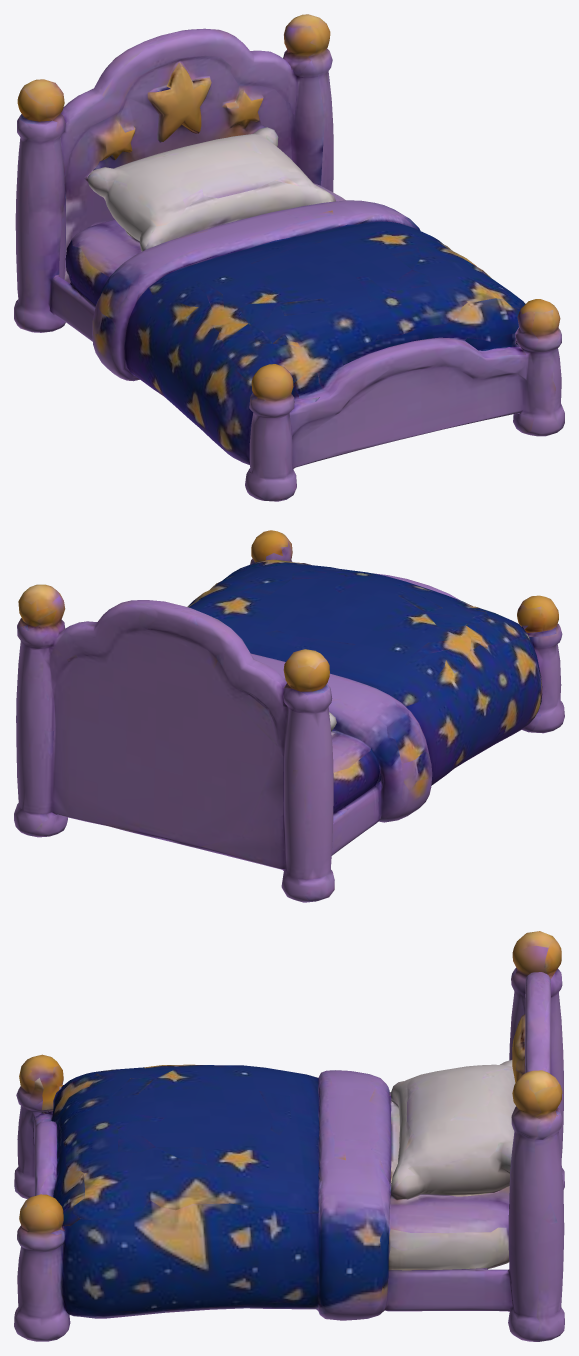
Rendered from bed_starlight.glb.
The picture shows the model from 3 angles, top to bottom: view 1: azimuth 30°, elevation 25°; view 2: azimuth 150°, elevation 25°; view 3: azimuth 270°, elevation 25°; orthographic projection. The views are drawn at different scales.
Visible parts, largest first — view 1: textured_mesh.obj; view 2: textured_mesh.obj; view 3: textured_mesh.obj.
Part boxes in pixels (left/top/right/bottom): textured_mesh.obj: left=14, top=14, right=564, bottom=501; textured_mesh.obj: left=14, top=530, right=564, bottom=902; textured_mesh.obj: left=14, top=931, right=564, bottom=1341.
Size of what is drawn, in the model's own units: 1.37 by 1.05 by 1.9.
1 material, 1 textured.
